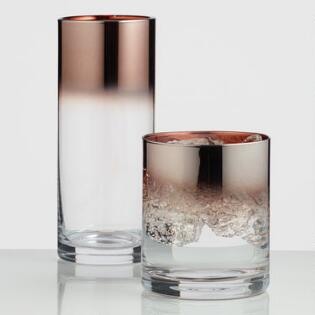Nonrec_Glass: (54, 5, 158, 275), (136, 121, 278, 304)
